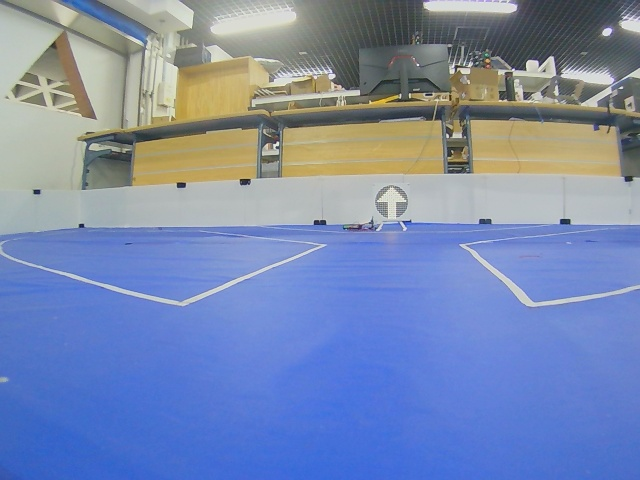straight_yellow: (375, 185, 408, 219)
